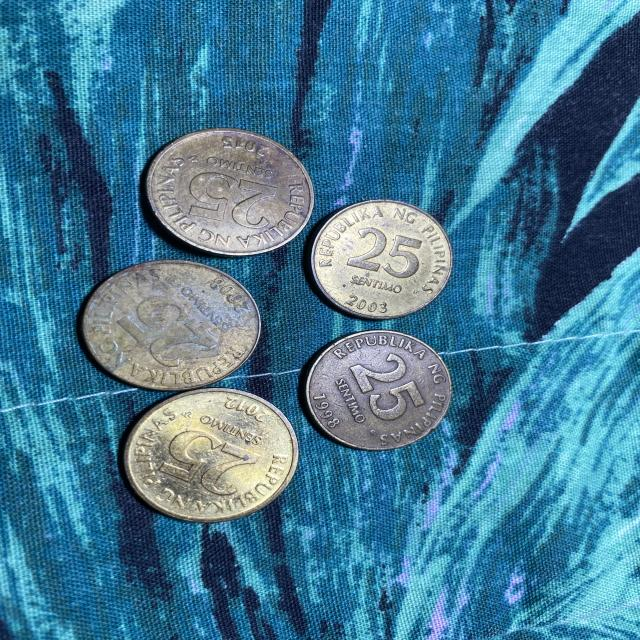25Cent_Old_Front: (118, 296, 212, 370), (151, 431, 256, 493), (345, 349, 424, 422), (188, 167, 276, 232), (350, 225, 426, 280)
